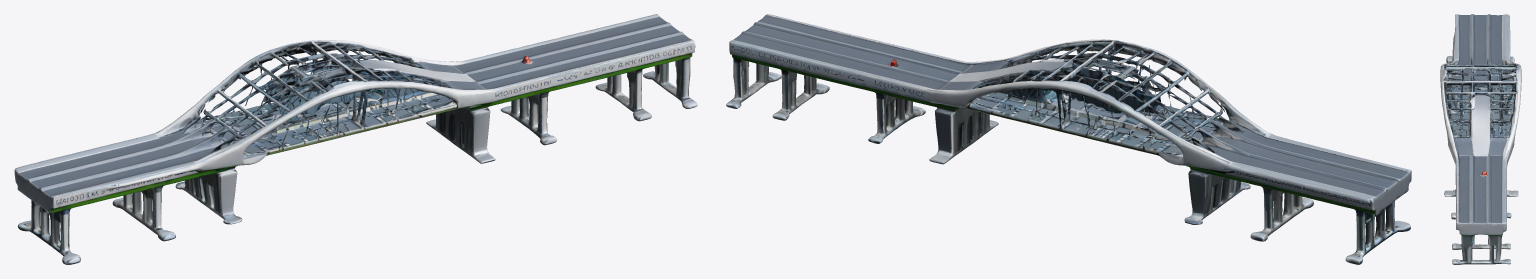
The model's file is YangHwaBrindge_destruction.fbx.
3 renders of one model, left to right at view 1: azimuth 30°, elevation 25°; view 2: azimuth 150°, elevation 25°; view 3: azimuth 270°, elevation 25°, orthographic. The views are drawn at different scales.
Visible parts, largest first — view 1: input; view 2: input; view 3: input.
Boxes of the visible parts, <box> form: input: <box>14,14,697,264</box>; input: <box>726,14,1411,264</box>; input: <box>1440,14,1521,264</box>.
Size of the model in its own units: 99.96 by 17.31 by 16.43.
Materials: 1 (1 with a texture image).
